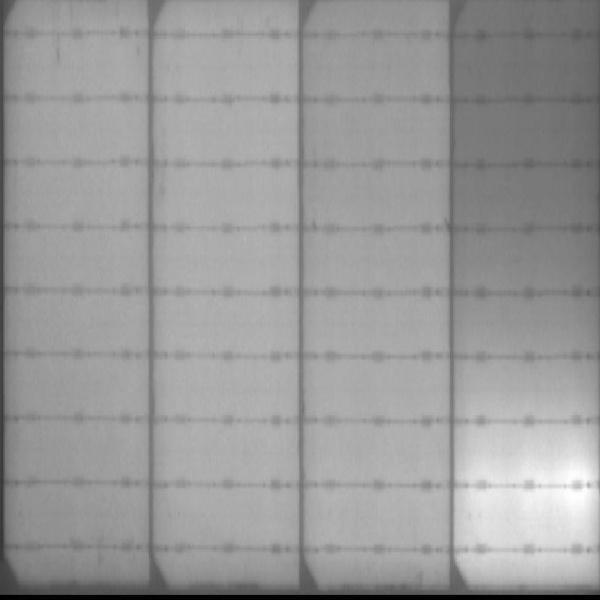hot_spot: (561, 460, 587, 482), (564, 489, 587, 505)
